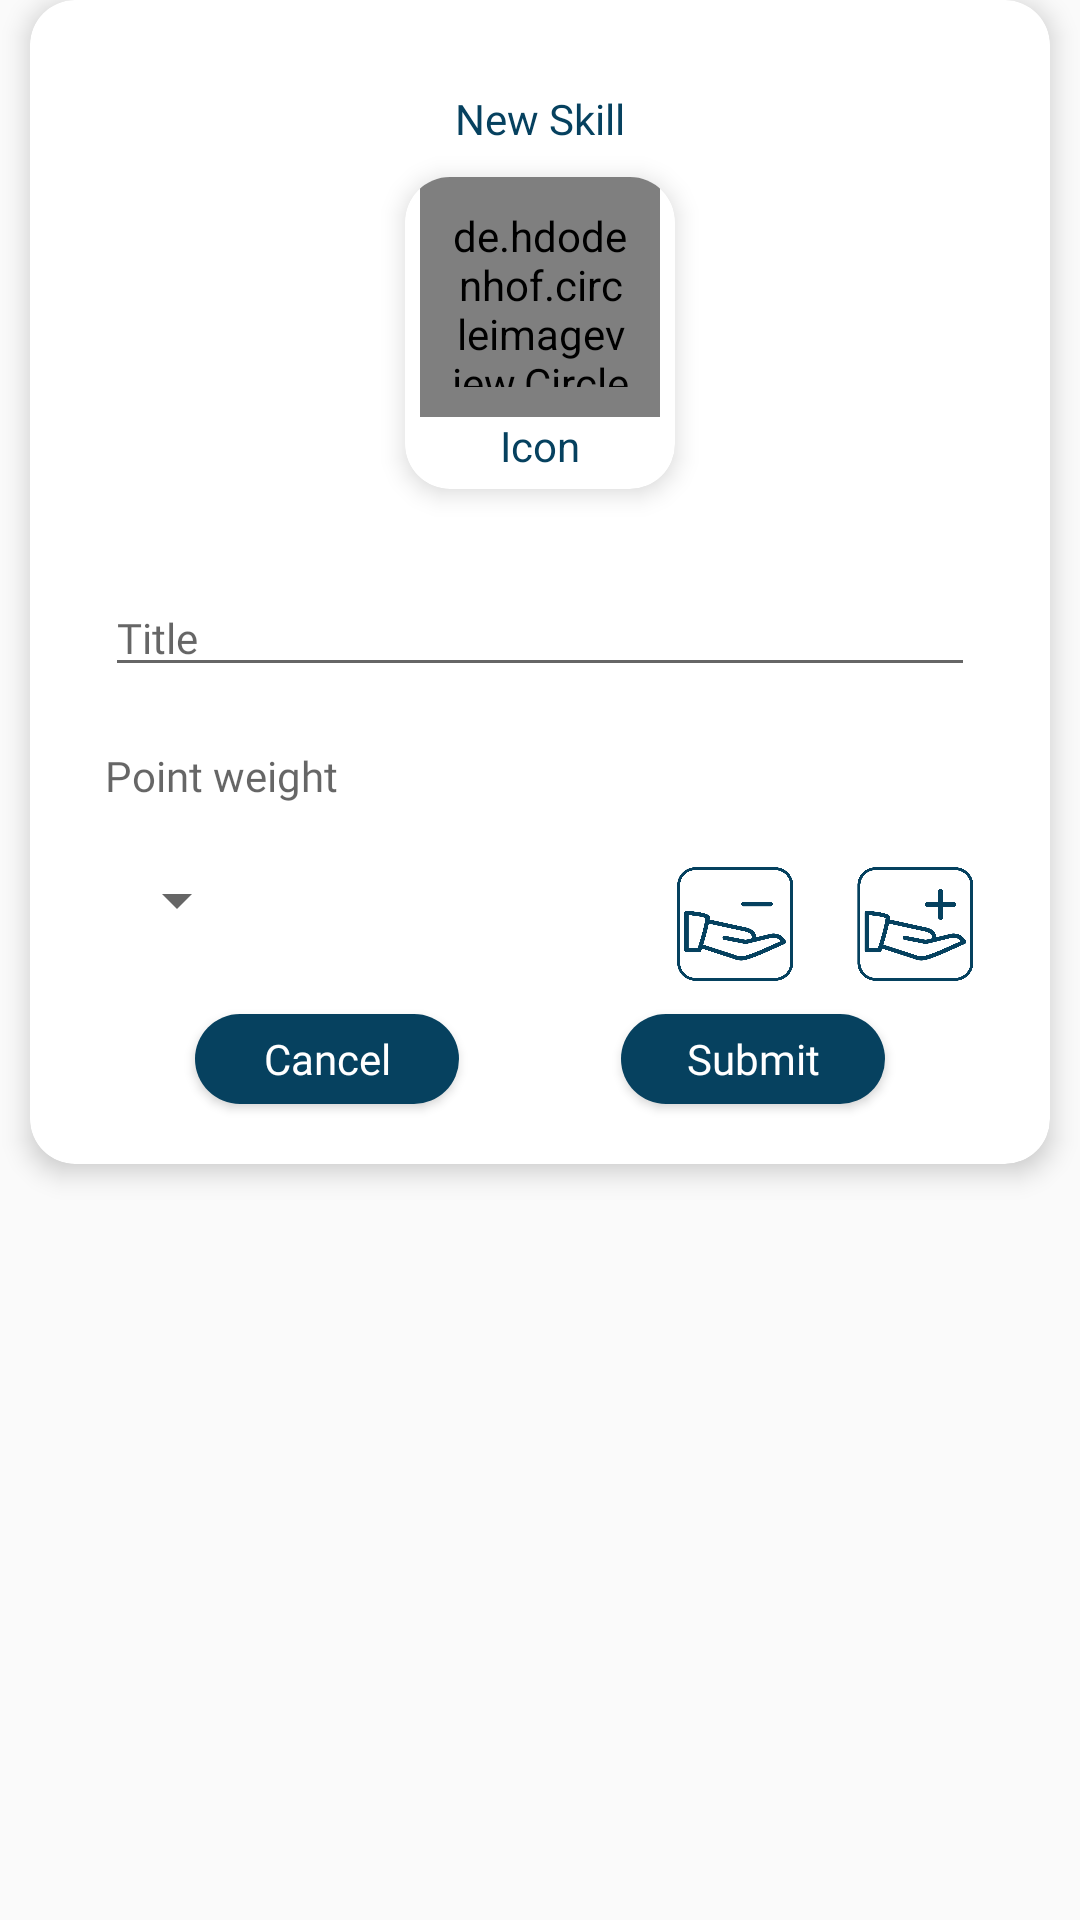

Icons on this 1080px x 1920px Android screen, each with the point to tap as [x,y]:
negative: [735,924]
positive: [915,924]
